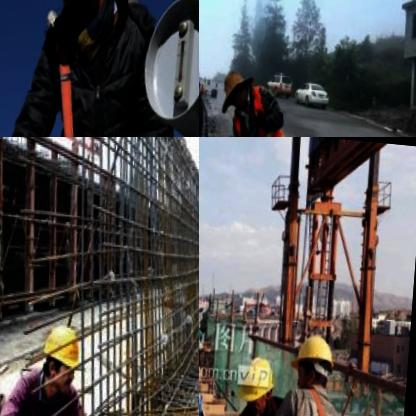helmet: (40, 316, 88, 398), (294, 321, 343, 393), (240, 346, 282, 411), (224, 62, 256, 107)
